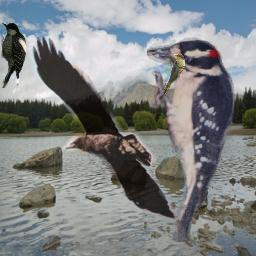Crow: (29, 33, 178, 223)
Cuckoo: (163, 54, 185, 94)
Woodpecker: (147, 35, 238, 242), (1, 22, 27, 88)
